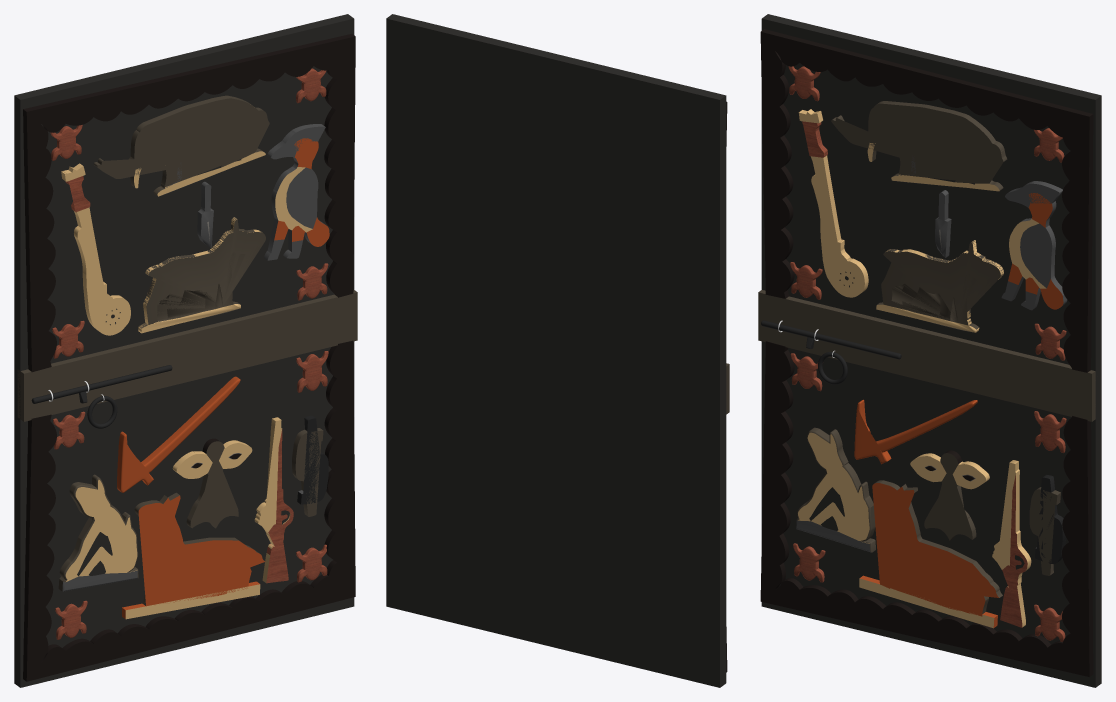
Rendered from portail.fbx.
The picture shows the model from 3 angles, left to right: view 1: azimuth 30°, elevation 25°; view 2: azimuth 150°, elevation 25°; view 3: azimuth 330°, elevation 25°; orthographic projection.
Parts seen in each view (by area): view 1: Cube, Extrusion_9, Cube_1, Extrusion_3, Extrusion, Extrusion_7, Extrusion_2, Extrusion_5_2, Extrusion_1, Extrusion_5, Extrusion_4, Extrusion_7_2 (+11 smaller); view 2: Cube; view 3: Cube, Extrusion_9, Cube_1, Extrusion_3, Extrusion, Extrusion_7, Extrusion_5_2, Extrusion_2, Extrusion_1, Extrusion_5, Extrusion_4, Extrusion_7_2 (+11 smaller).
Boxes of the visible parts, <box> form: Cube: <box>14,14,354,687</box>; Extrusion_9: <box>23,33,355,681</box>; Cube_1: <box>17,290,357,421</box>; Extrusion_3: <box>122,415,328,619</box>; Extrusion: <box>93,95,269,196</box>; Extrusion_7: <box>138,217,265,333</box>; Extrusion_2: <box>264,124,329,260</box>; Extrusion_5_2: <box>58,474,138,591</box>; Extrusion_1: <box>61,163,130,335</box>; Extrusion_5: <box>172,438,252,528</box>; Extrusion_4: <box>254,417,293,583</box>; Extrusion_7_2: <box>117,376,240,492</box>; Cube: <box>386,14,726,687</box>; Cube: <box>761,14,1101,687</box>; Extrusion_9: <box>760,29,1093,676</box>; Cube_1: <box>758,290,1095,421</box>; Extrusion_3: <box>859,475,1066,628</box>; Extrusion: <box>831,101,1007,191</box>; Extrusion_7: <box>876,240,1003,332</box>; Extrusion_5_2: <box>796,427,875,552</box>; Extrusion_2: <box>1001,181,1067,310</box>; Extrusion_1: <box>798,109,868,297</box>; Extrusion_5: <box>910,450,989,540</box>; Extrusion_4: <box>992,460,1031,627</box>; Extrusion_7_2: <box>854,399,977,464</box>.
Size of the model in its own units: 481 by 810 by 39.05.
Materials: 9 (1 with a texture image).
